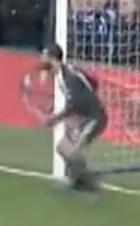goalkeeper: (13, 20, 115, 207)
